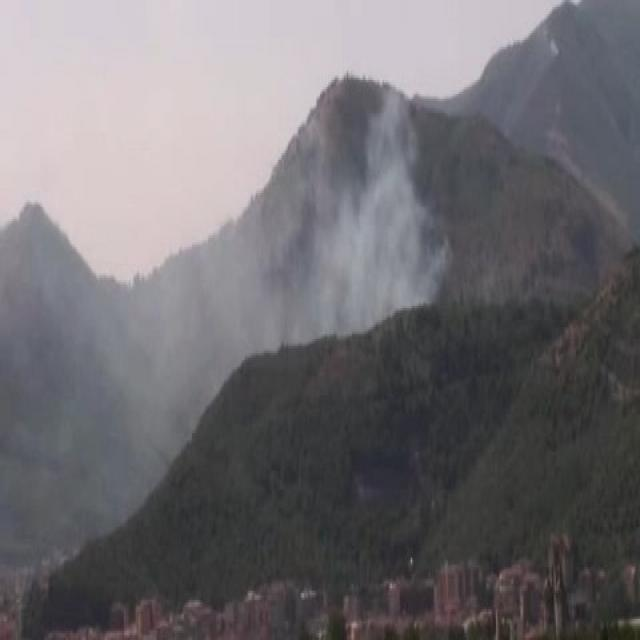smoke: (298, 106, 444, 316), (44, 278, 214, 436)
